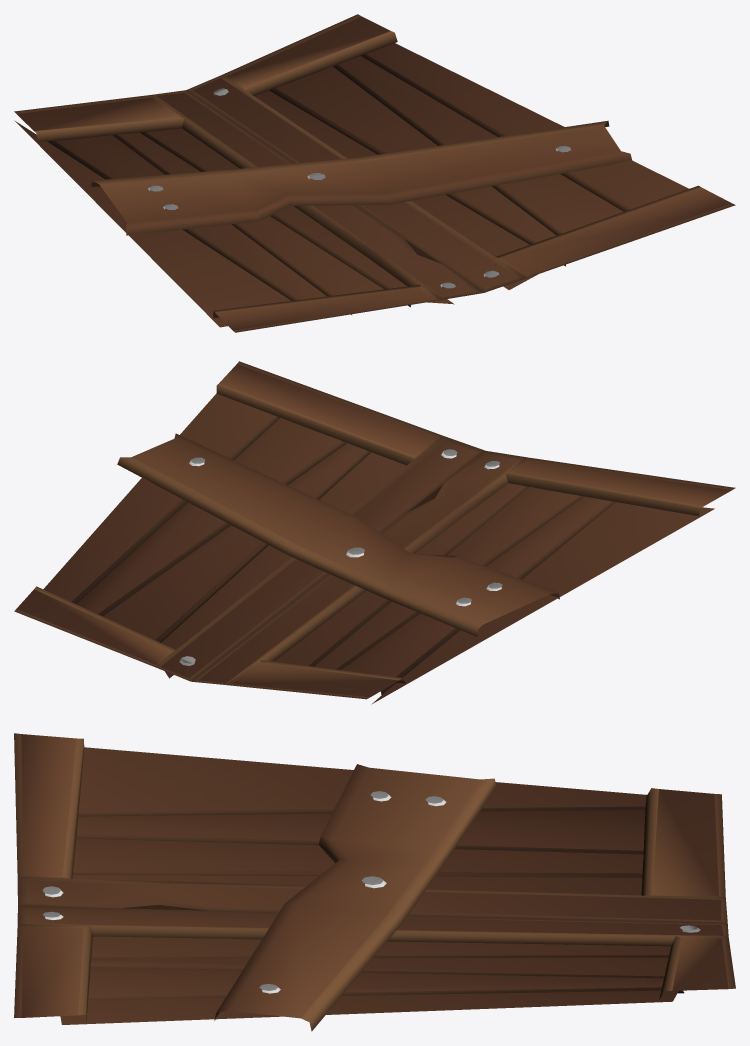
Rendered from TownGatewayDoor.fbx.
3 views of the same model, one above another, from view 1: azimuth 30°, elevation 25°; view 2: azimuth 150°, elevation 25°; view 3: azimuth 270°, elevation 25° (orthographic). The views are drawn at different scales.
Parts seen in each view (by area): view 1: TownGatewayDoor; view 2: TownGatewayDoor; view 3: TownGatewayDoor.
Boxes of the visible parts, x1,y1,x2,y2 form: TownGatewayDoor: (14, 14, 735, 332); TownGatewayDoor: (14, 361, 735, 704); TownGatewayDoor: (14, 733, 735, 1031).
Size of the model in its own units: 236 by 21.31 by 248.
